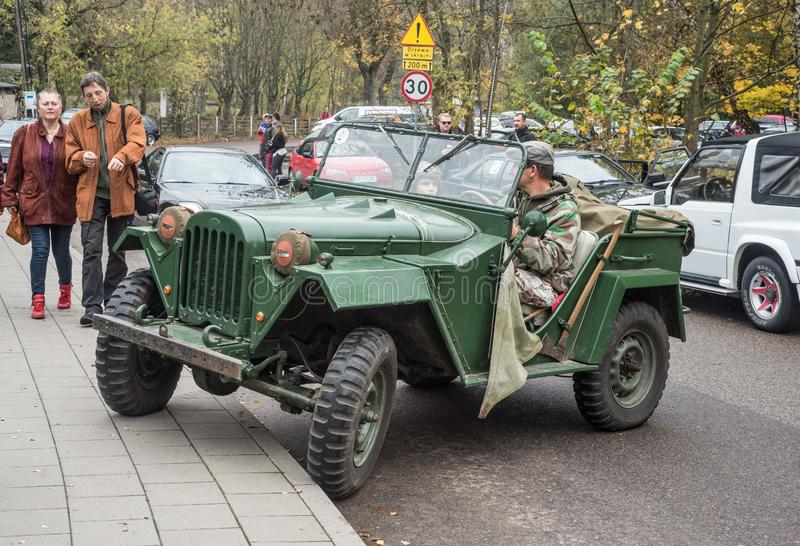jeep: (97, 144, 688, 449)
